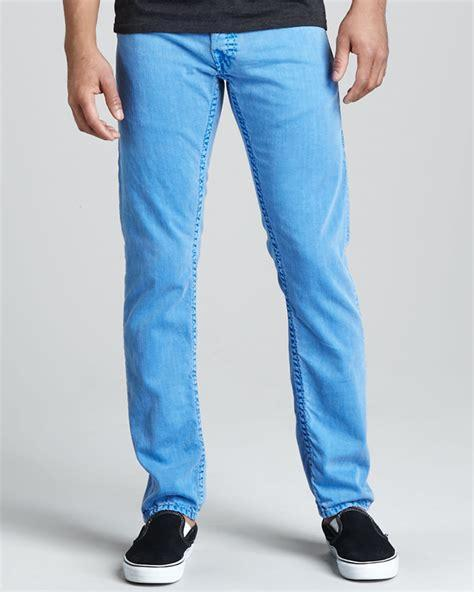pants: (115, 27, 373, 522)
